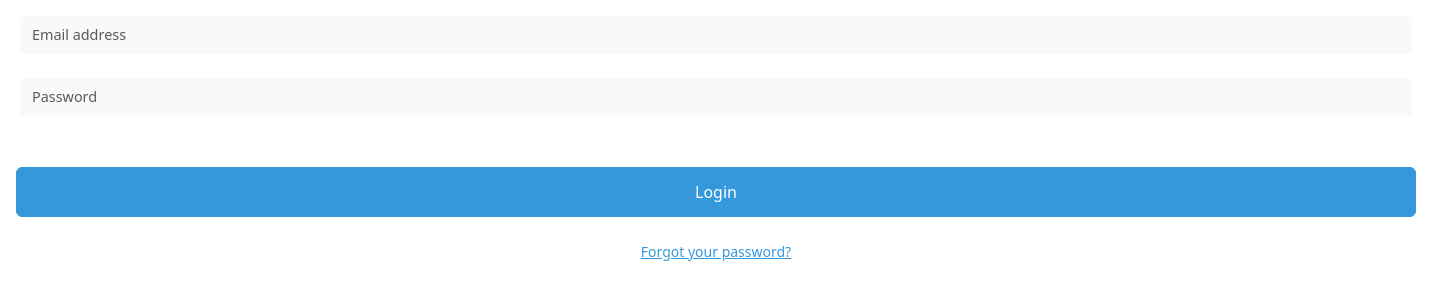
it: UserLogin Component › Form Validation › shows error for short password
Type "test@example.com" into the field with placeholder "Email address" at [716, 35], box [20,16,1412,54]
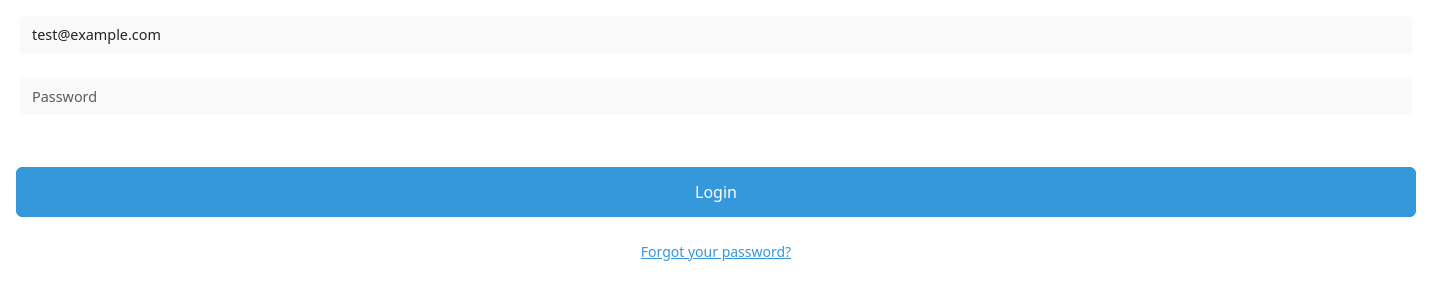
Type "short" into the password field with placeholder "Password" at [716, 96], box [20,78,1412,115]
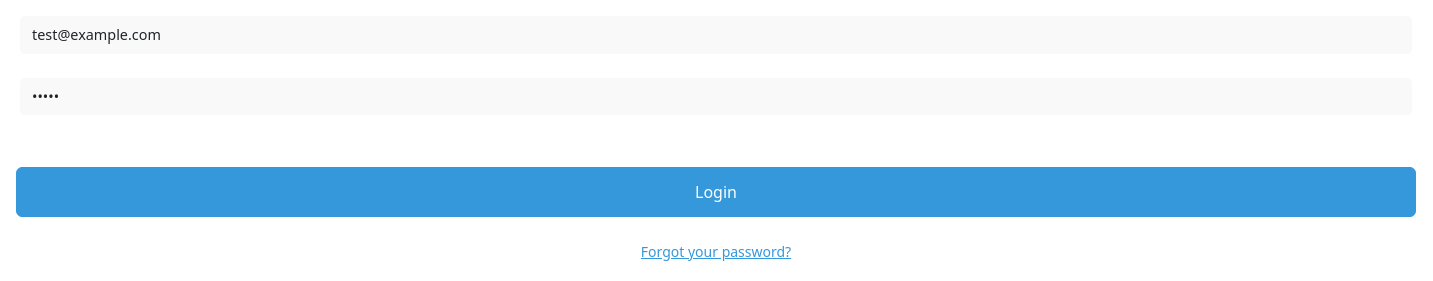
Click the button "Login" at [716, 192], box [16,167,1416,217]
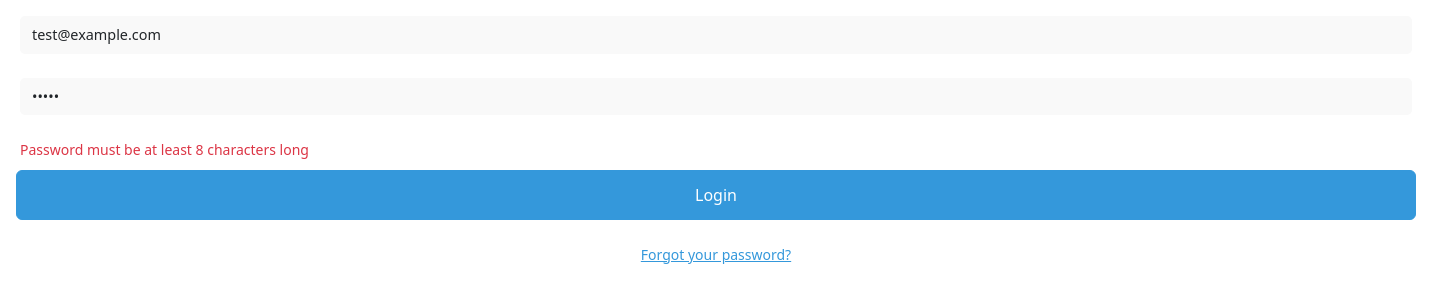
Expected: the text "Password must be at least 8 characters long" is shown, [20,140,309,159]
